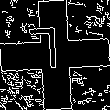L_S: (38, 29, 72, 81)
